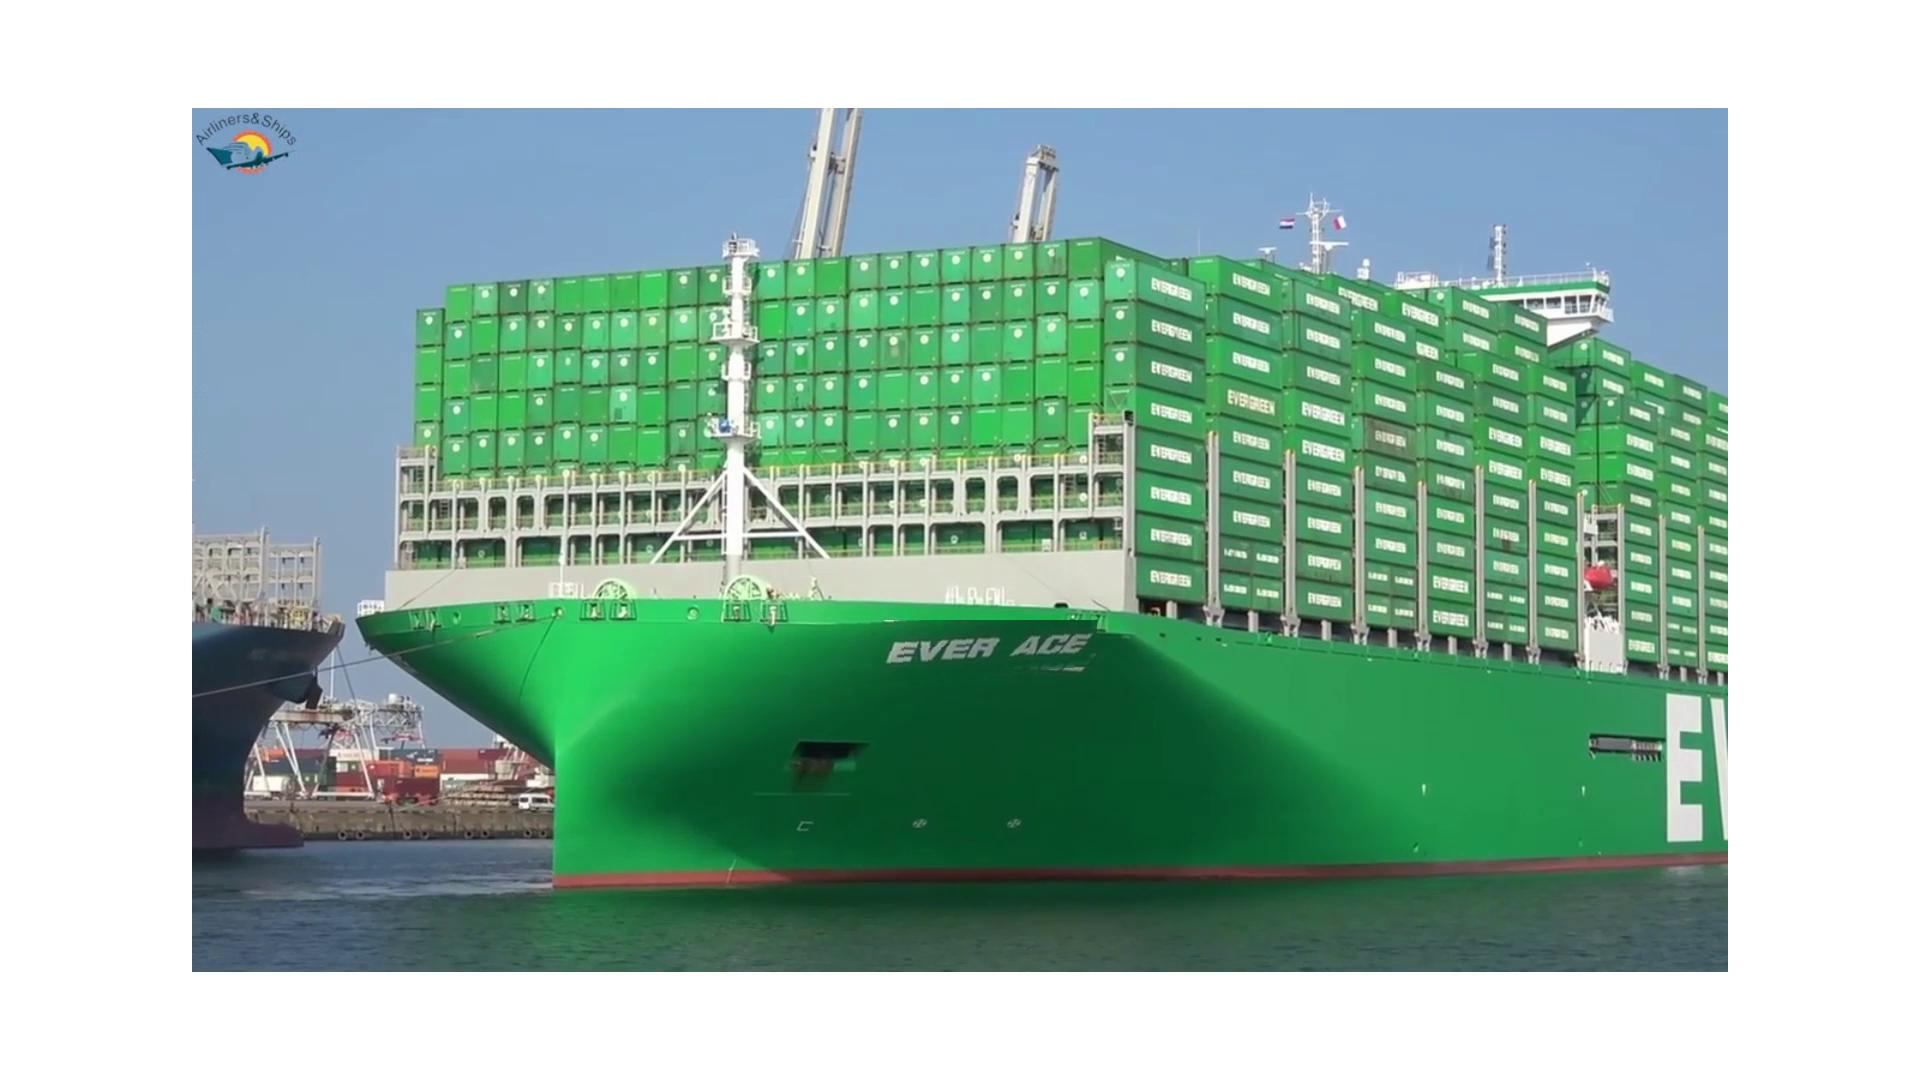OCR: (851, 620, 1098, 686)
